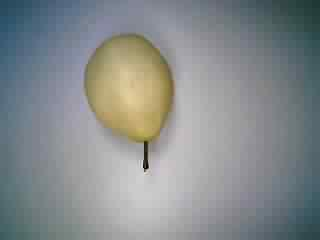pear: (74, 30, 185, 178)
